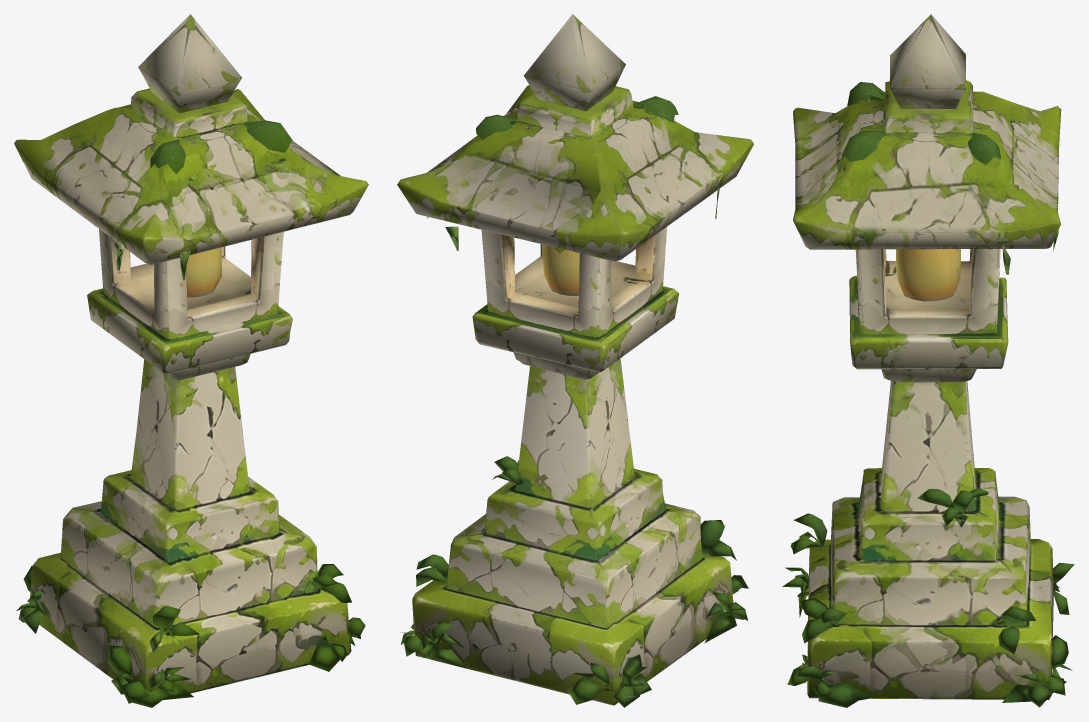
Rendered from Lantern.fbx.
3 views of the same model, side by side, from view 1: azimuth 30°, elevation 25°; view 2: azimuth 150°, elevation 25°; view 3: azimuth 270°, elevation 25° (orthographic). The views are drawn at different scales.
Parts seen in each view (by area): view 1: Lantern; view 2: Lantern; view 3: Lantern.
Boxes of the visible parts, x1,y1,x2,y2 form: Lantern: (14, 14, 368, 707); Lantern: (397, 14, 753, 707); Lantern: (782, 14, 1074, 707).
Bounding box in the file's own units: 0.8553 × 2.1 × 0.8746.
1 material, 1 textured.
